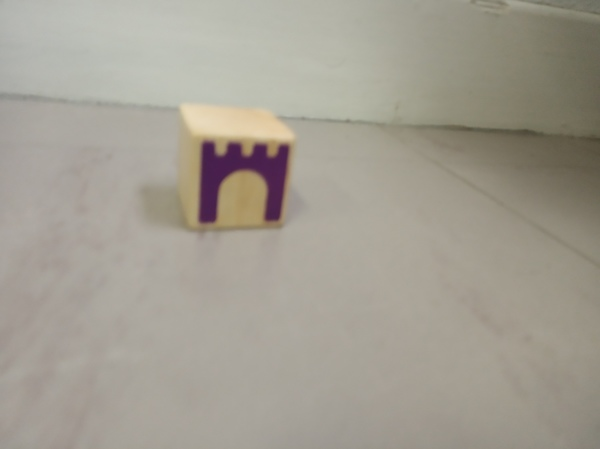violet: (180, 104, 291, 232)
